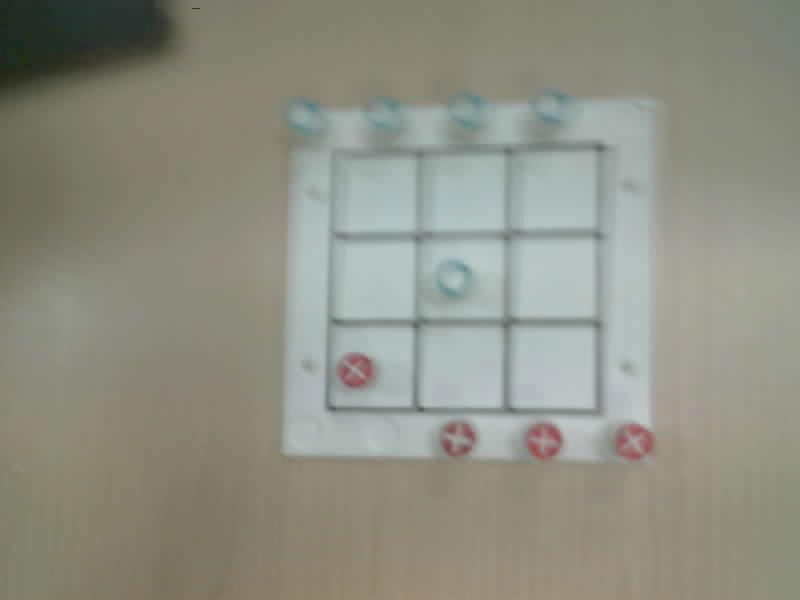blue circle: (434, 259, 473, 297), (286, 98, 325, 136), (364, 96, 405, 132), (531, 90, 574, 124), (448, 92, 487, 129)
board: (283, 92, 656, 460)
cells: (510, 326, 596, 410), (329, 326, 413, 407), (512, 150, 597, 230), (511, 239, 597, 318), (418, 240, 504, 318), (420, 326, 501, 408), (332, 240, 413, 319), (422, 152, 504, 230), (334, 155, 416, 232)
grid: (325, 142, 606, 414)
red cross: (614, 423, 654, 460), (526, 423, 562, 459), (440, 421, 477, 456), (337, 353, 373, 387)
